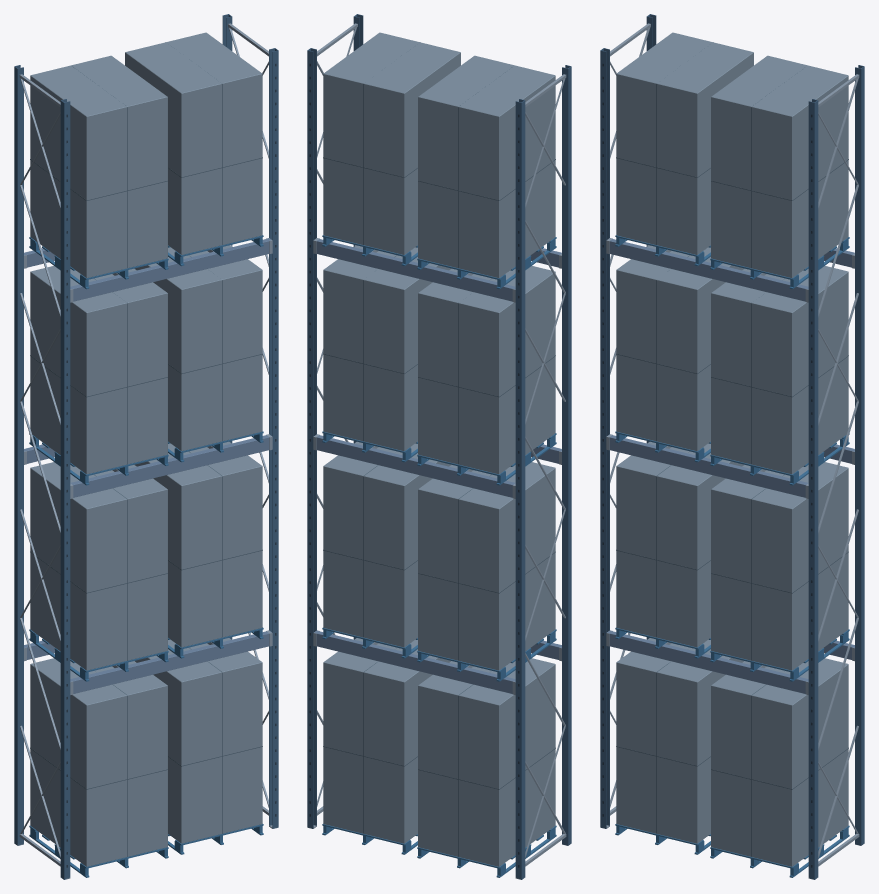
File: SM_GHS_CADRack_A_W26457.fbx
3 renders of one model, left to right at view 1: azimuth 30°, elevation 25°; view 2: azimuth 150°, elevation 25°; view 3: azimuth 330°, elevation 25°, orthographic.
Parts seen in each view (by area): view 1: SM_GHS_CADRack_A_W26457; view 2: SM_GHS_CADRack_A_W26457; view 3: SM_GHS_CADRack_A_W26457.
Part boxes in pixels (box(x1,y1,x2,y2)): SM_GHS_CADRack_A_W26457: box(14, 14, 278, 879); SM_GHS_CADRack_A_W26457: box(307, 14, 571, 879); SM_GHS_CADRack_A_W26457: box(600, 14, 864, 879).
Bounding box in the file's own units: 265 × 122 × 915.
